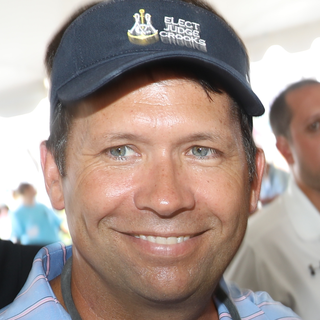eye: (90, 134, 149, 167), (177, 138, 227, 172)
